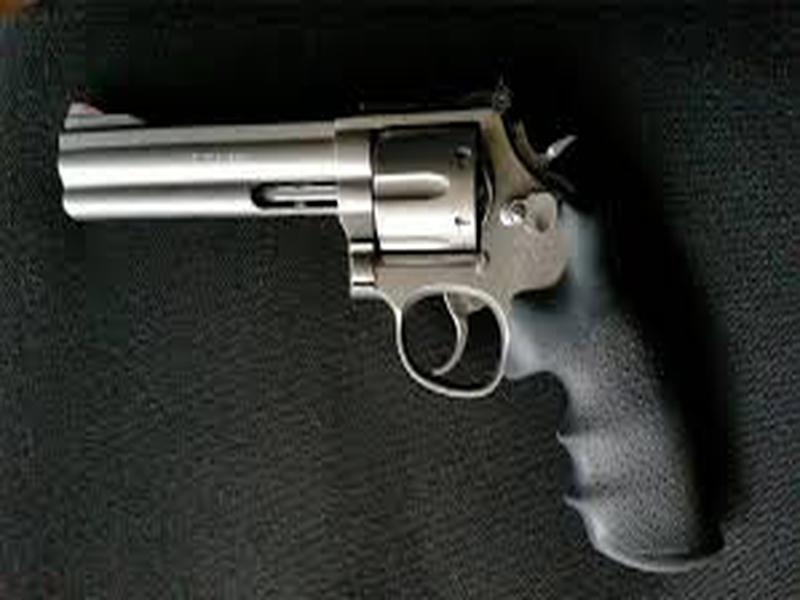Revolver: (53, 67, 736, 575)
